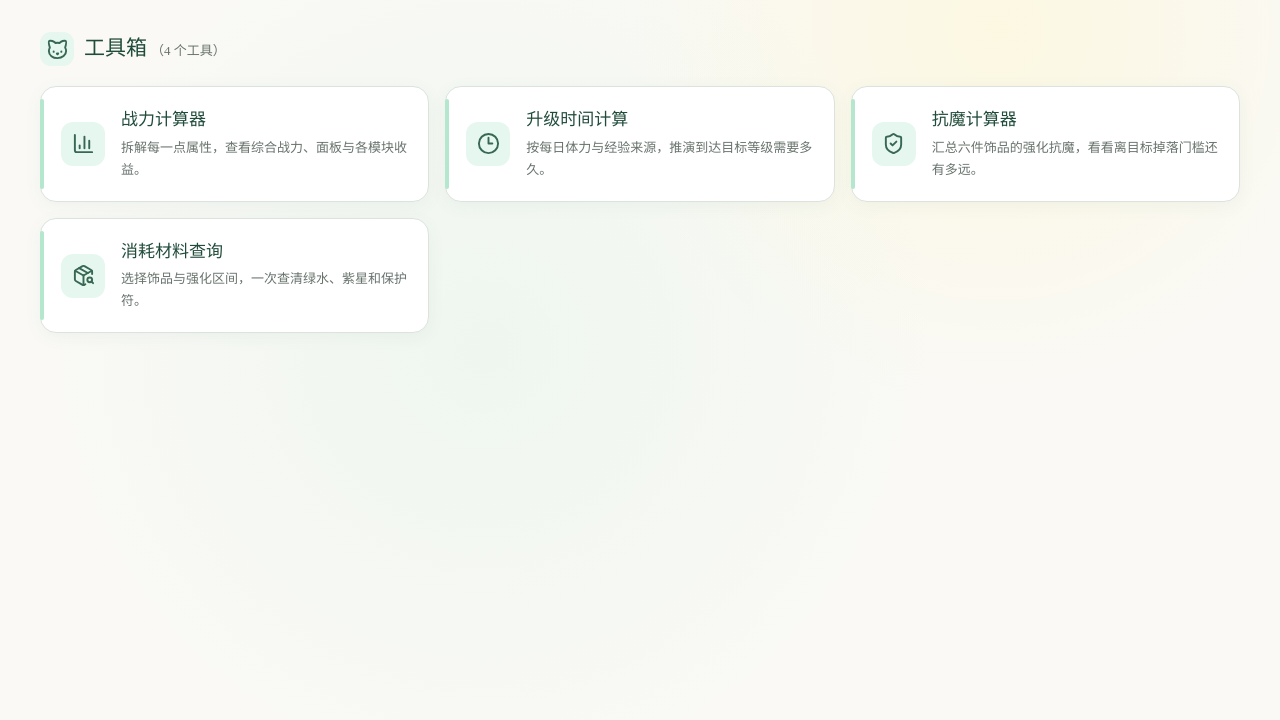
Scenario: 首页快捷导航 › 首页卡片可以进入 magic，回首页后恢复根地址
Click the link with aria-label "进入抗魔计算器". click: [1045, 144]
box: x1=851 y1=86 x2=1240 y2=202
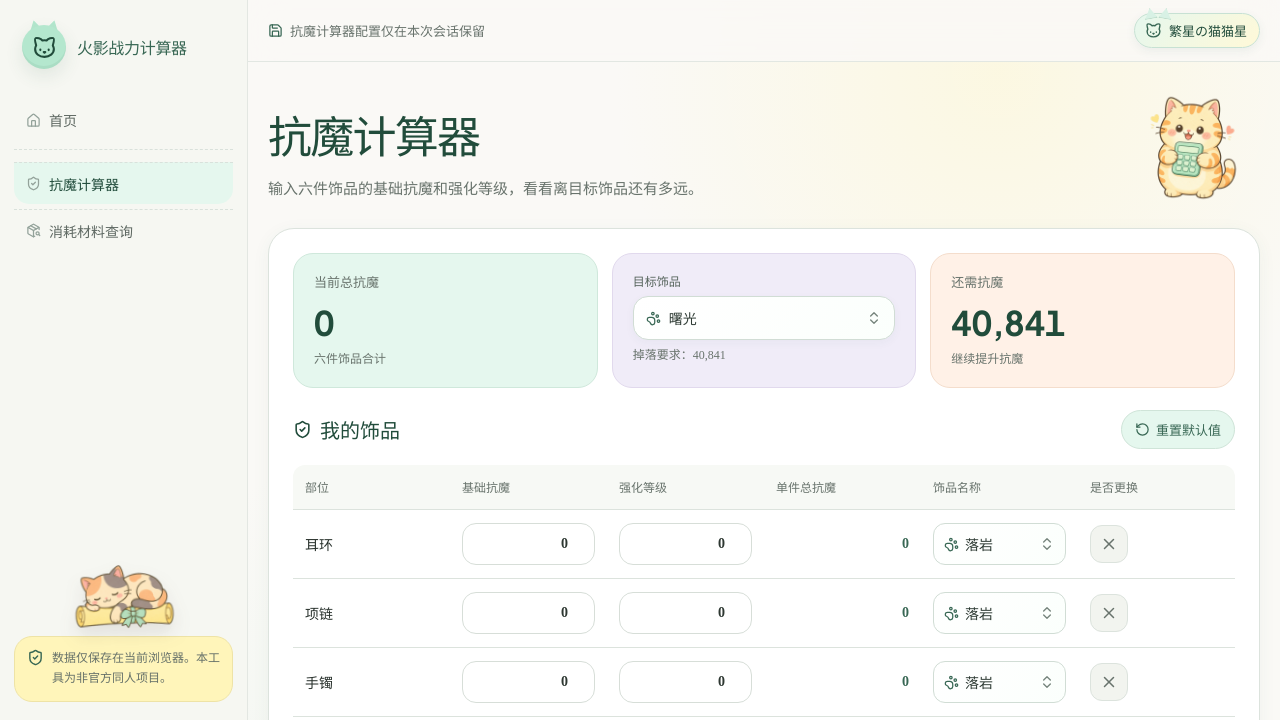
Result: the button "首页" is shown
Result: the button "抗魔计算器" is shown at x1=14 y1=162 x2=233 y2=204
Result: the link "升级时间计算" is gone
Click the button "首页". click: [124, 120]
box: x1=14 y1=99 x2=233 y2=141
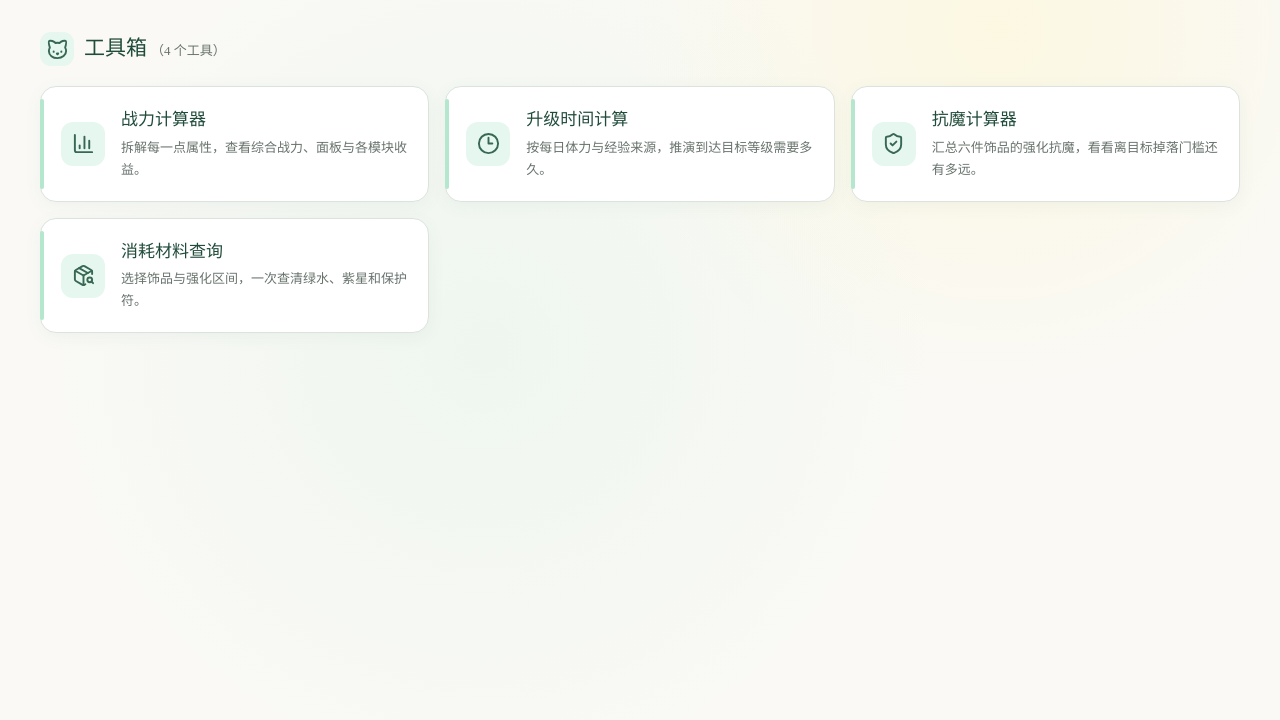
Result: the heading named "工具箱（4 个工具）" is shown at x1=84 y1=33 x2=226 y2=65
Result: the navigation bar "页面导航" is gone
